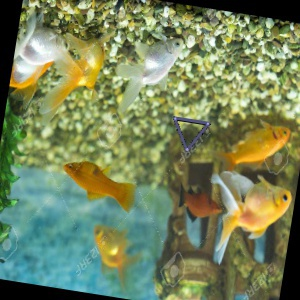triangle: (172, 112, 212, 153)
